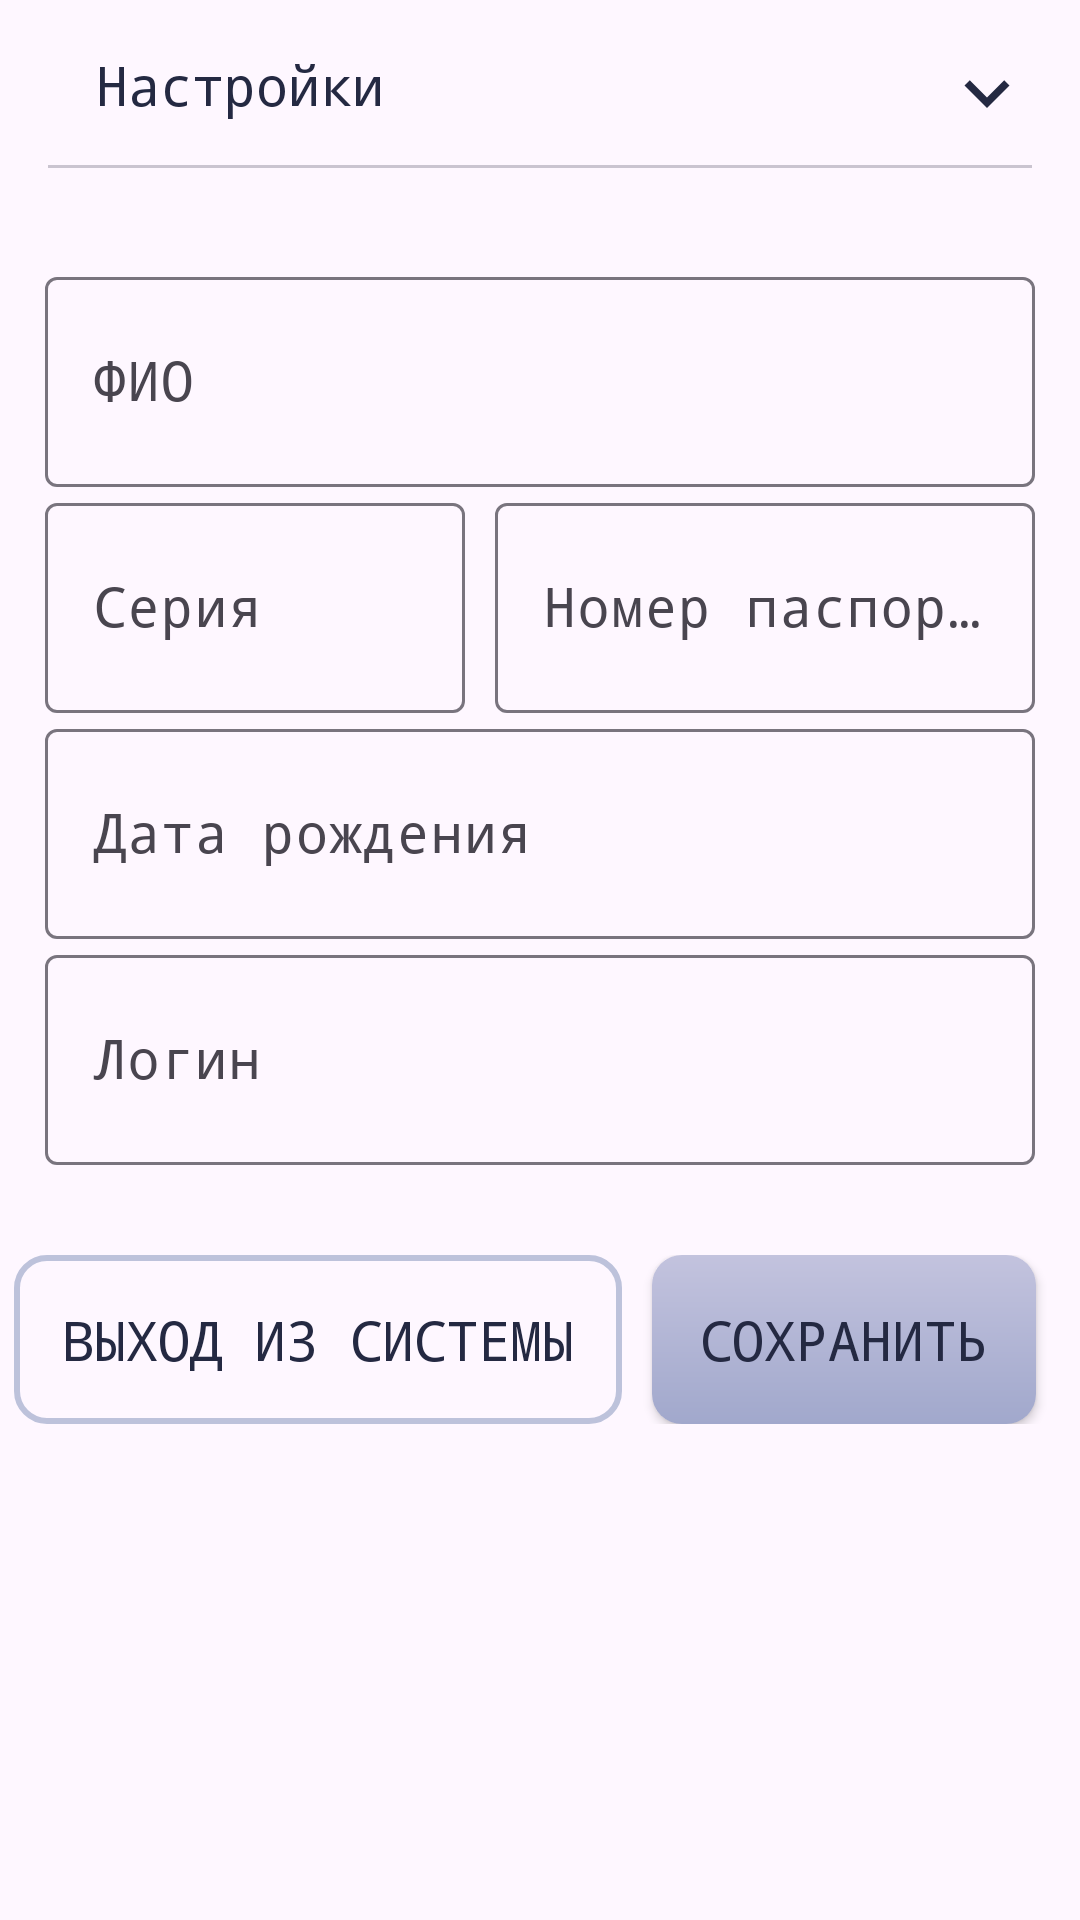

Where to tap for icons on this 1080 x 1920 app screen, as point (x, y):
aarrow down: point (987, 94)
